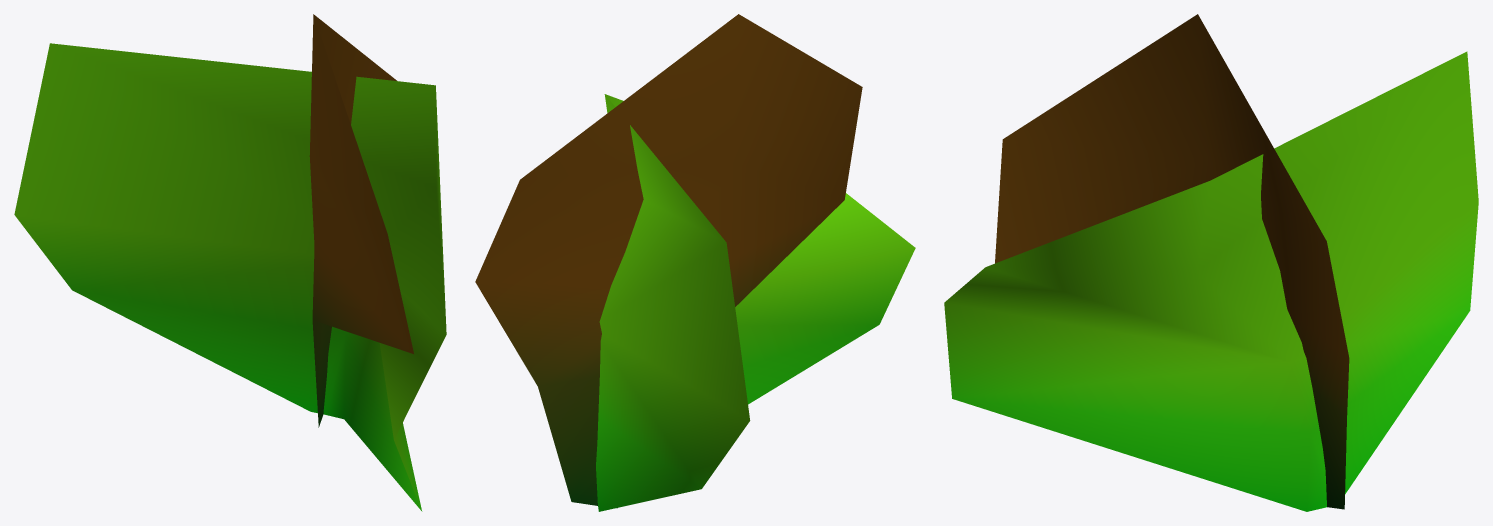
Rendered from Var1Hi26.fbx.
3 renders of one model, left to right at view 1: azimuth 30°, elevation 25°; view 2: azimuth 150°, elevation 25°; view 3: azimuth 270°, elevation 25°, orthographic. The views are drawn at different scales.
Parts seen in each view (by area): view 1: bend1; view 2: bend1; view 3: bend1.
Boxes of the visible parts, x1,y1,x2,y2 form: bend1: (14, 14, 446, 511); bend1: (475, 14, 915, 511); bend1: (944, 14, 1478, 511).
Size of the model in its own units: 1.03 by 1.36 by 1.42.
